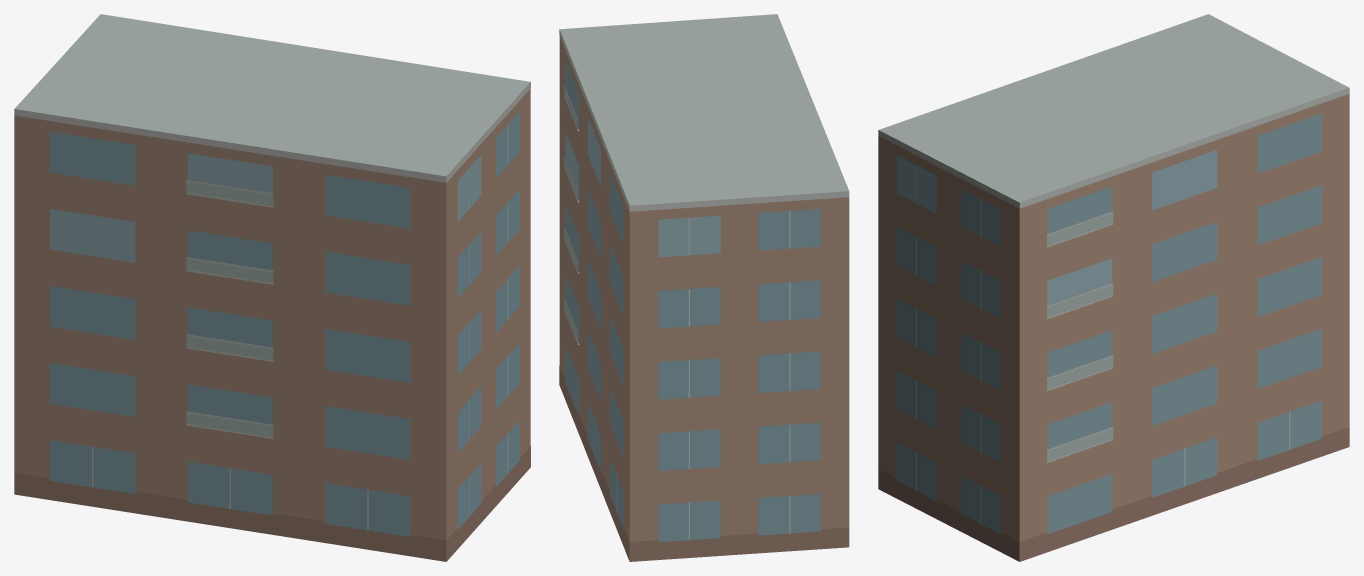
The model's file is survey-upis-32917136.glb.
3 renders of one model, left to right at view 1: azimuth 30°, elevation 25°; view 2: azimuth 150°, elevation 25°; view 3: azimuth 270°, elevation 25°, orthographic. The views are drawn at different scales.
Visible parts, largest first — view 1: survey-upis-32917136.tmp; view 2: survey-upis-32917136.tmp; view 3: survey-upis-32917136.tmp.
Boxes of the visible parts, x1,y1,x2,y2 form: survey-upis-32917136.tmp: [14, 14, 530, 561]; survey-upis-32917136.tmp: [559, 14, 849, 561]; survey-upis-32917136.tmp: [878, 14, 1349, 561].
Bounding box in the file's own units: 16.46 × 14.6 × 17.36.
